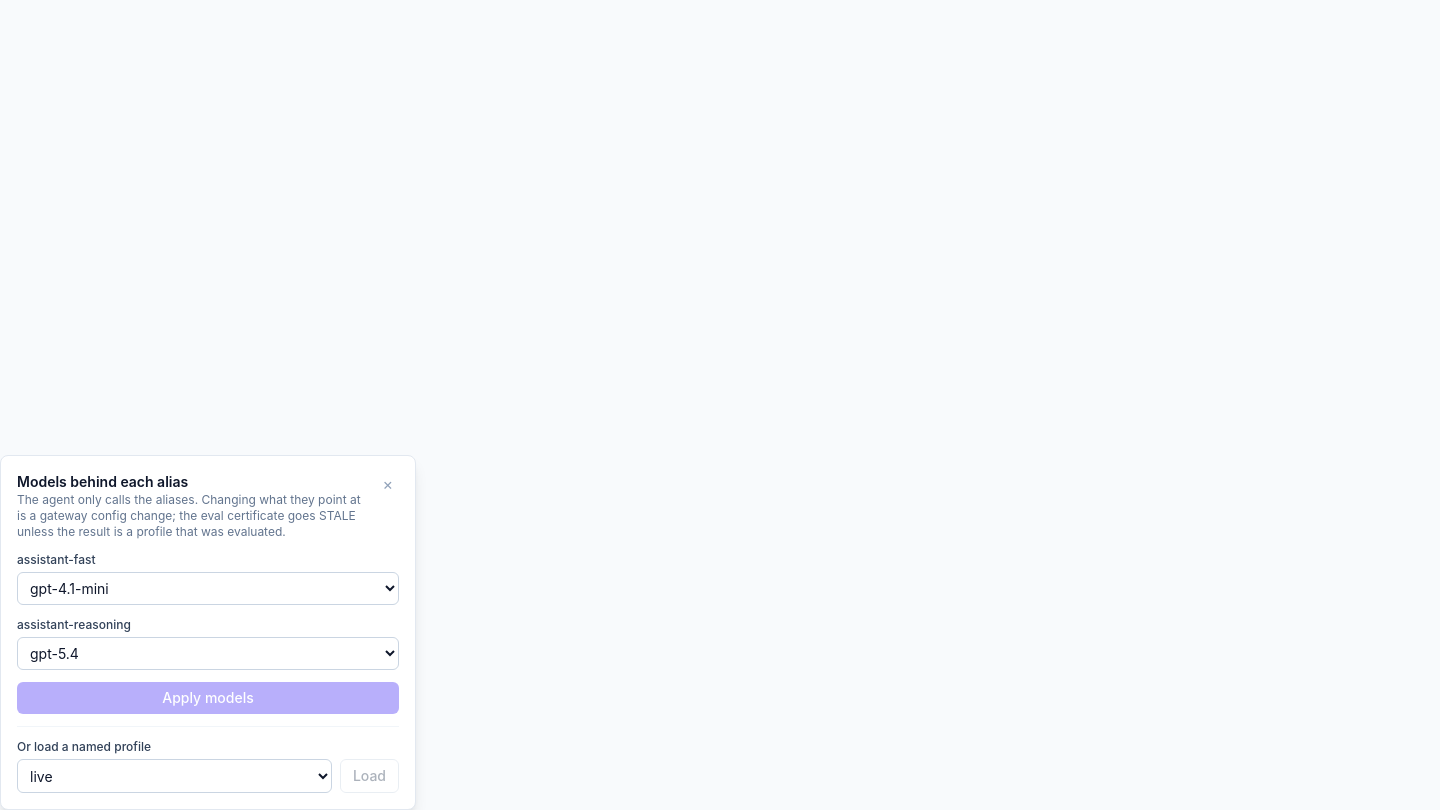
Test: ModelSelector › loads a named profile and shows gateway errors
(page scrolled)
Select "live-swapped" in the dropdown labelled "Or load a named profile". click: (174, 776)
box: [17, 759, 332, 793]
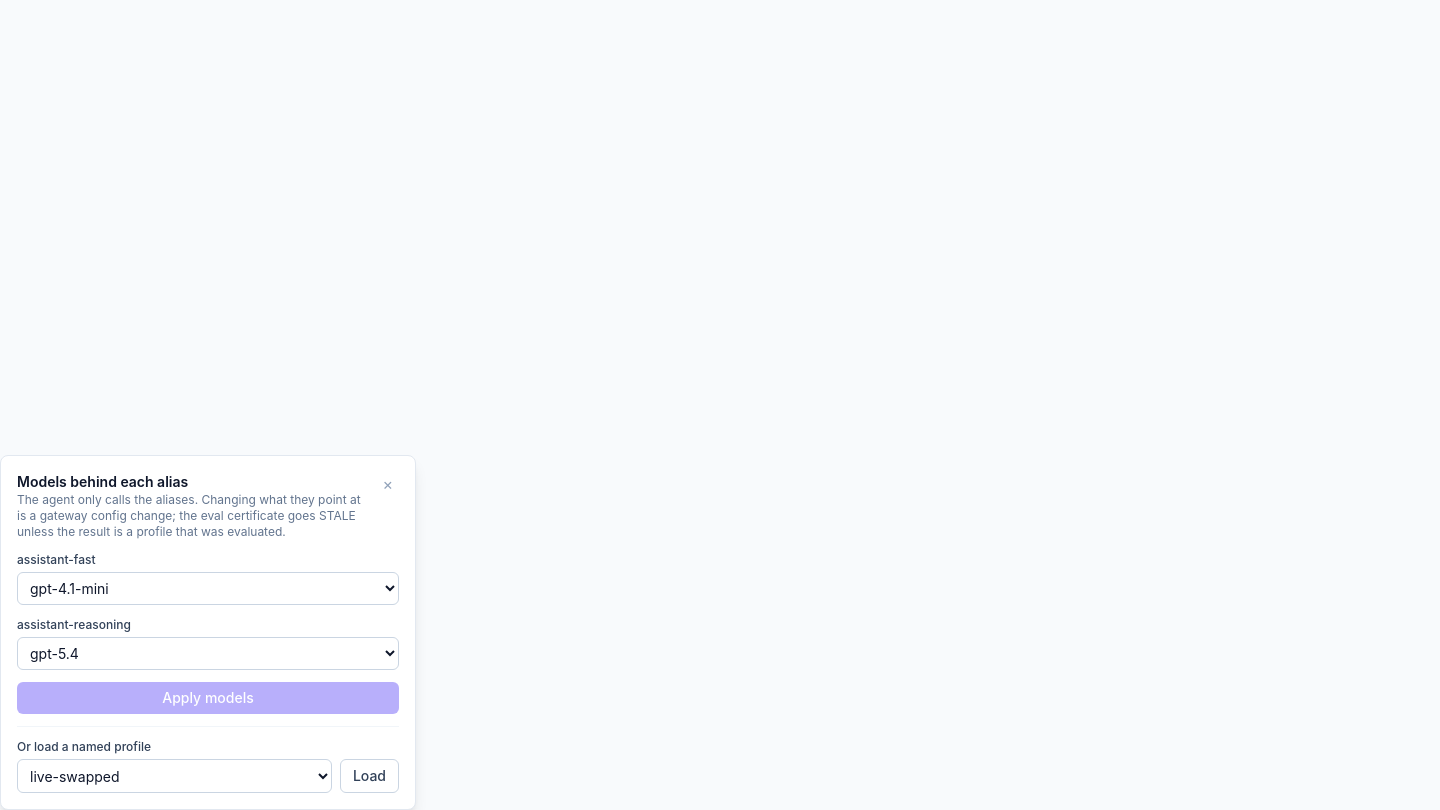
Click the button "Load". click: (369, 776)
box: [340, 759, 399, 793]
(page scrolled)
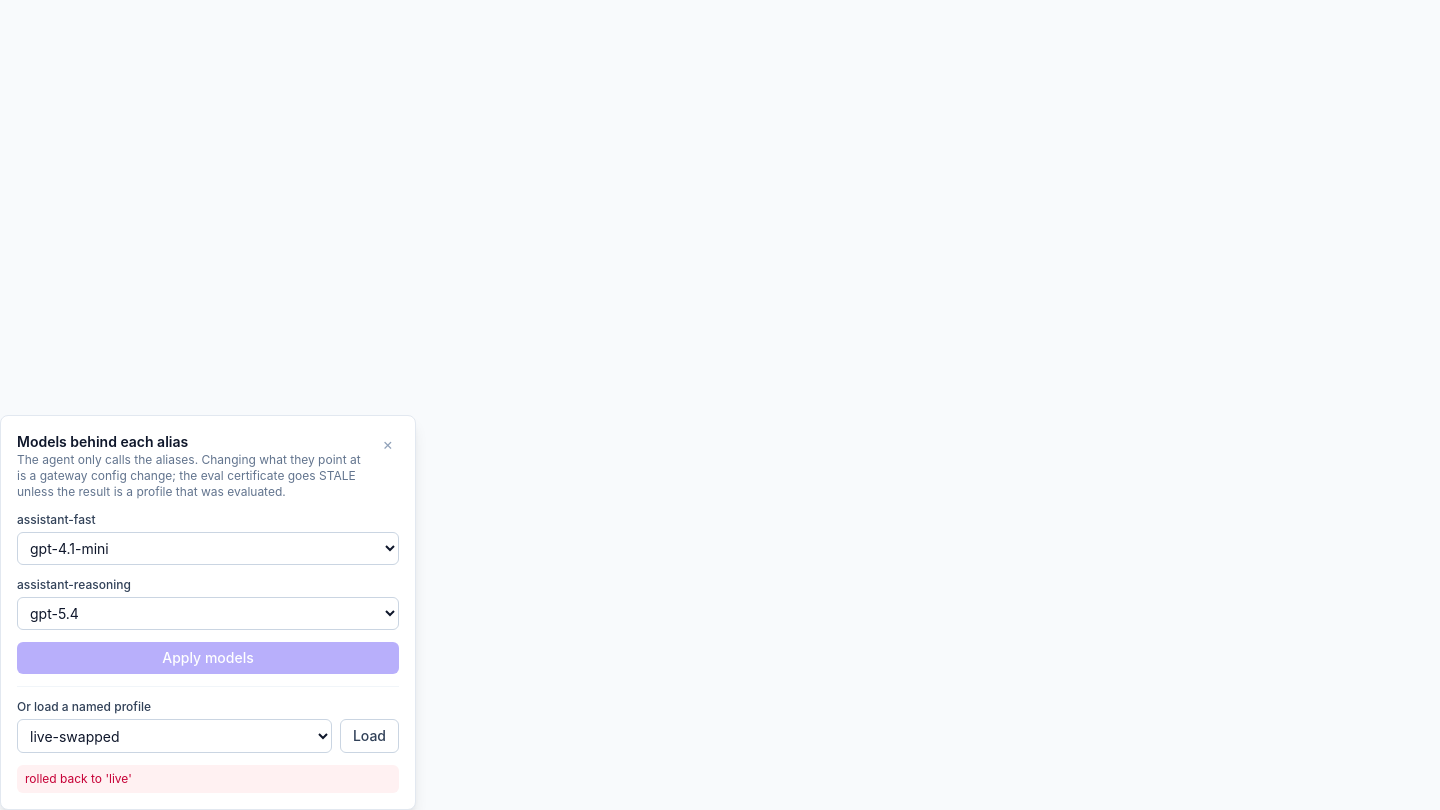
expect the message reads "rolled back to 'live'": met, box [25, 771, 132, 786]
